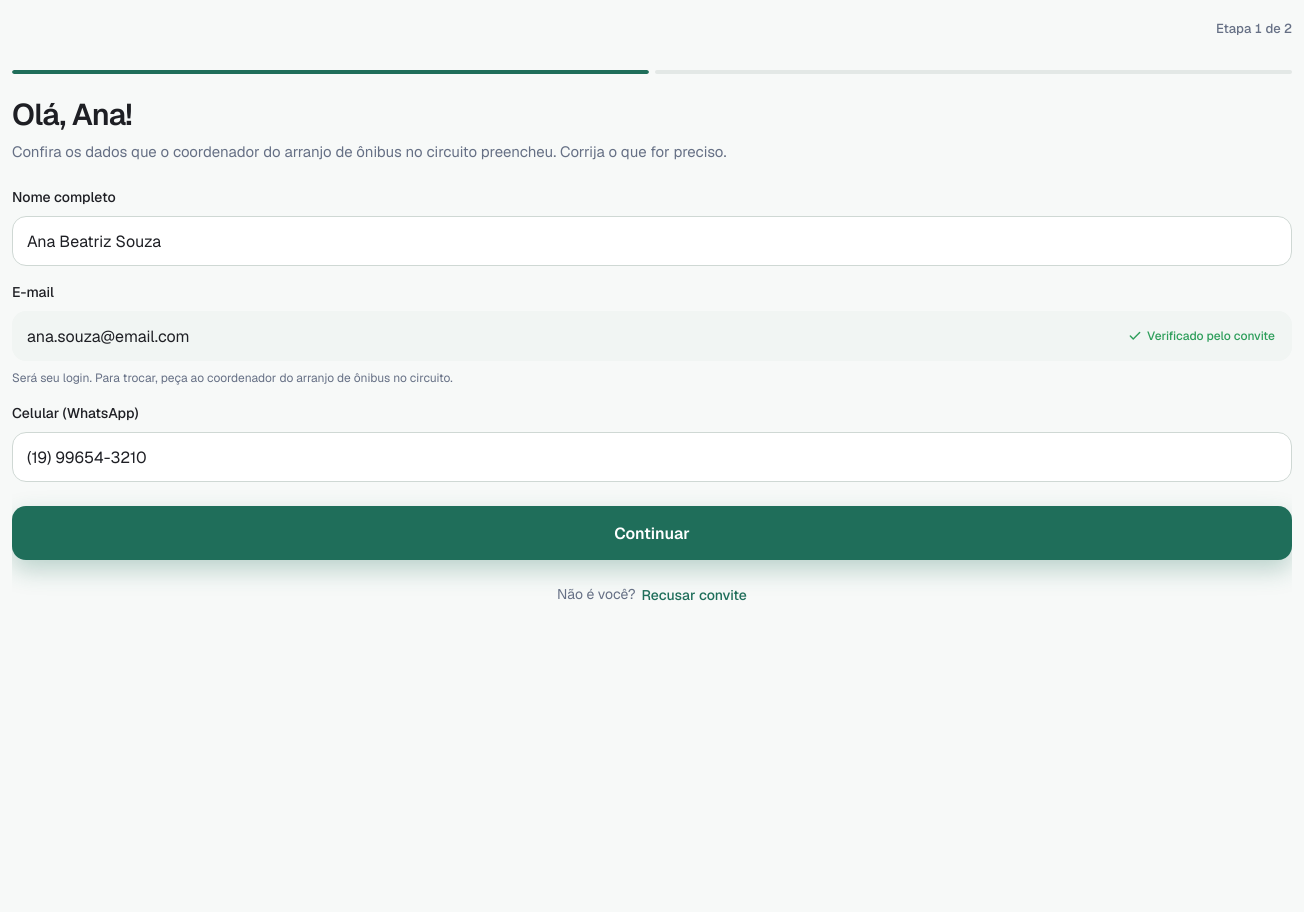
Test: AcceptInvitationFlow — etapa de dados › avança para a senha quando nome e celular estão válidos
Click the button "Continuar". click: coordinates (652, 533)
box: [12,506,1292,560]
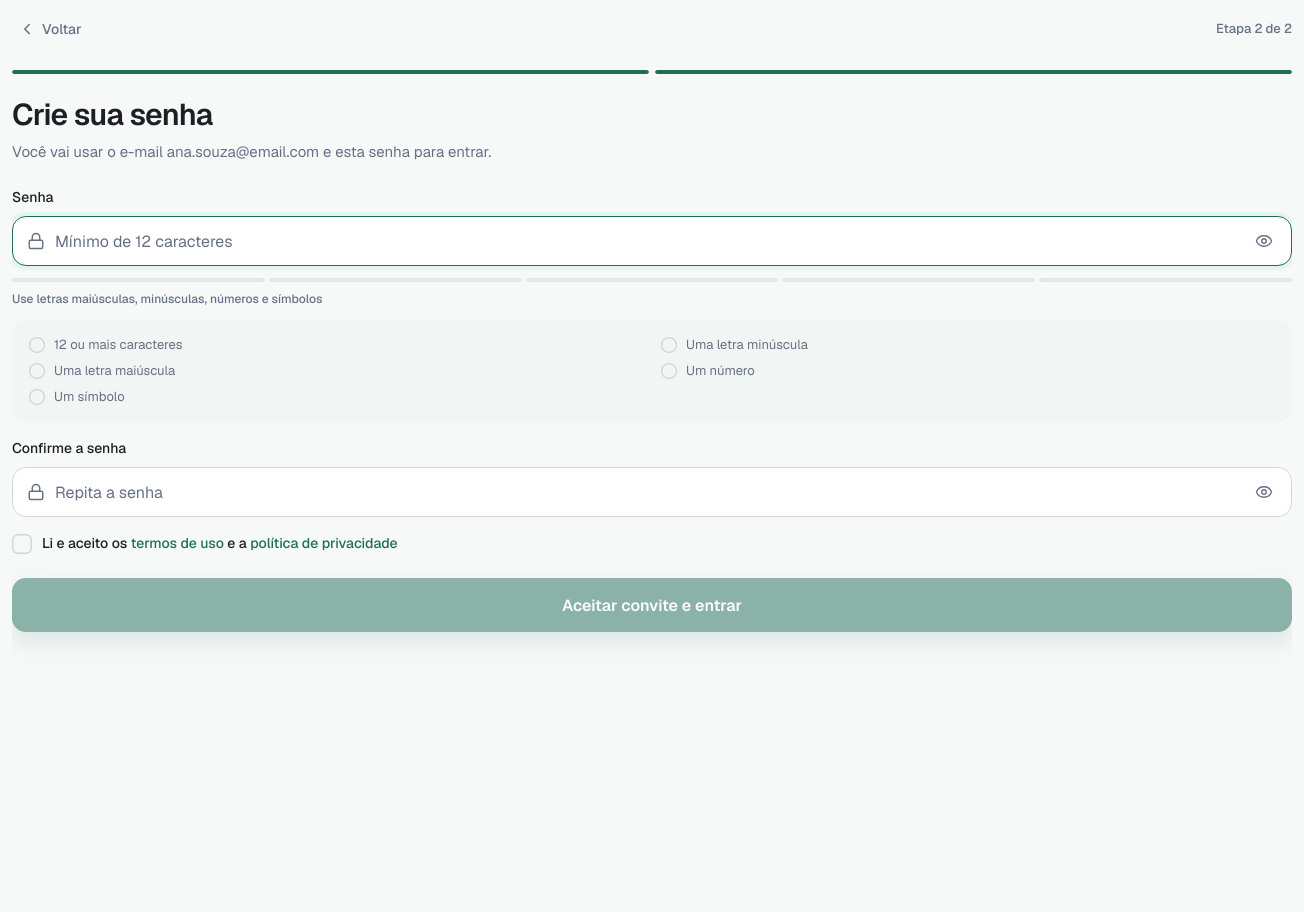
Now the heading "Crie sua senha" is shown, box [12,95,212,134]
Now the text "Etapa 2 de 2" is shown, box [1216,19,1292,39]
